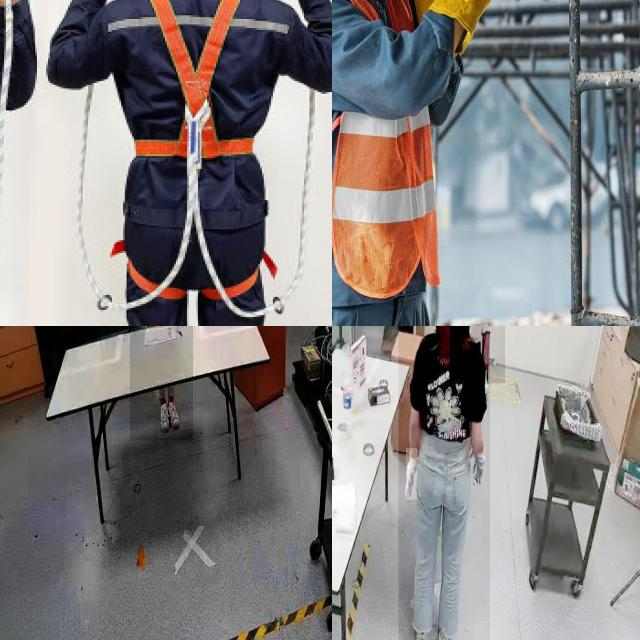Harness: (121, 0, 274, 167)
hand_glove: (431, 0, 538, 53), (471, 446, 487, 492), (406, 448, 418, 501)
person: (332, 0, 548, 326), (398, 326, 490, 640), (130, 326, 193, 441), (449, 326, 505, 384)
shoes: (411, 600, 431, 640), (435, 609, 455, 640), (157, 402, 171, 434), (167, 396, 179, 433)
